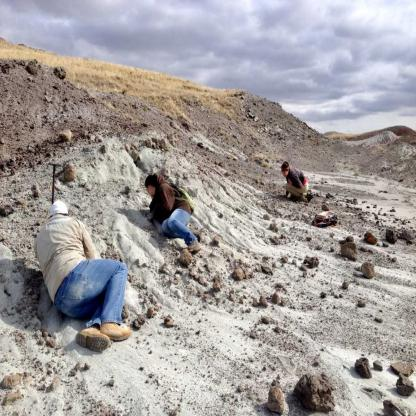person: (27, 178, 130, 354), (134, 124, 203, 268), (276, 138, 315, 216)
